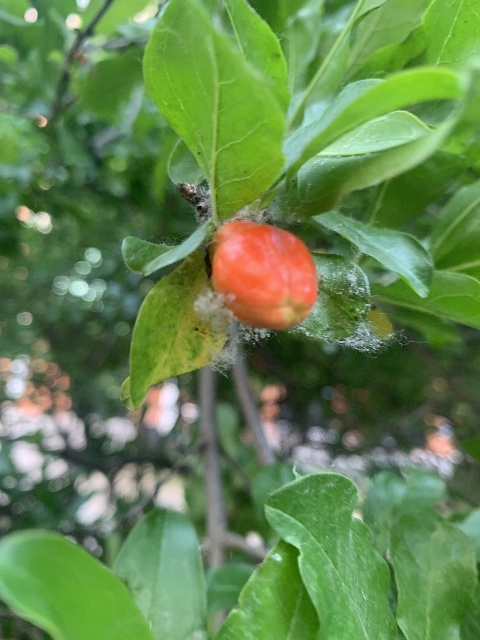bud: (209, 220, 317, 330)
